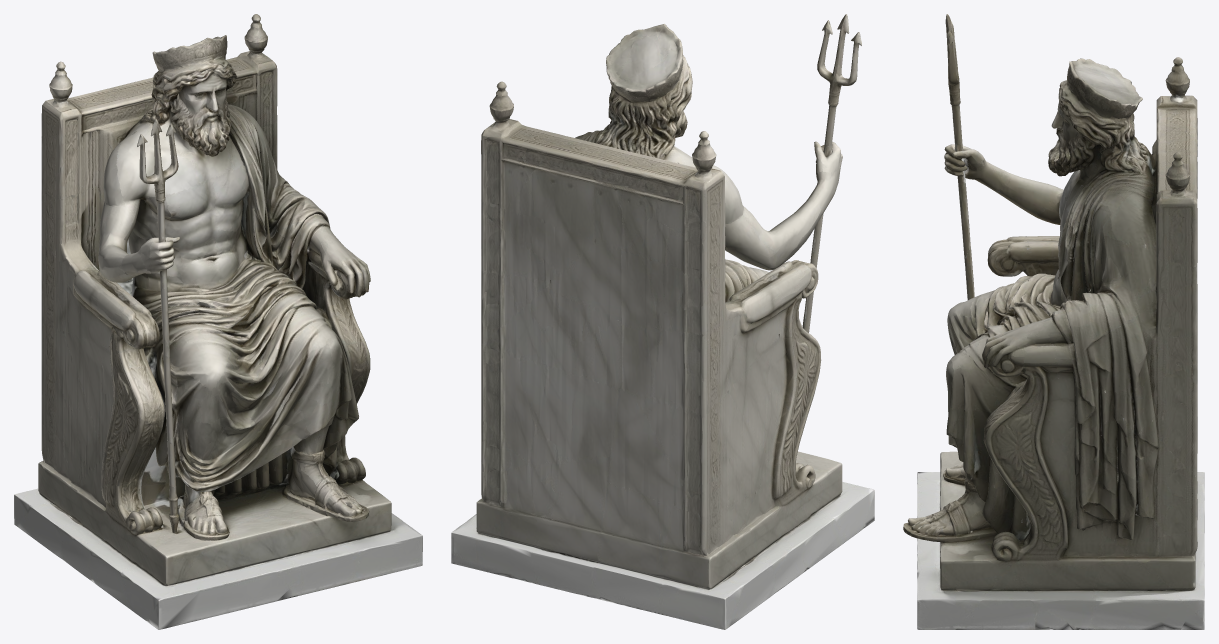
The model's file is wonder_zeus__zeus-throne.glb.
3 renders of one model, left to right at view 1: azimuth 30°, elevation 25°; view 2: azimuth 150°, elevation 25°; view 3: azimuth 270°, elevation 25°, orthographic. The views are drawn at different scales.
Size of the model in its own units: 1.06 by 1.9 by 1.03.
1 material, 1 textured.
